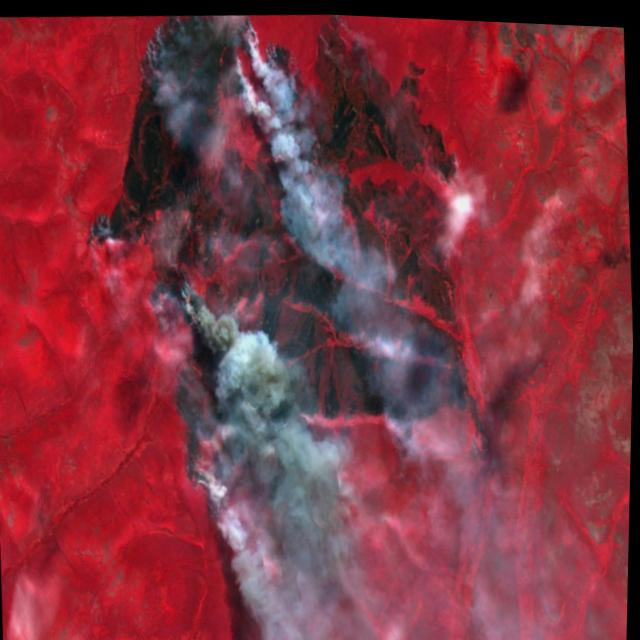fire: (63, 3, 490, 511)
